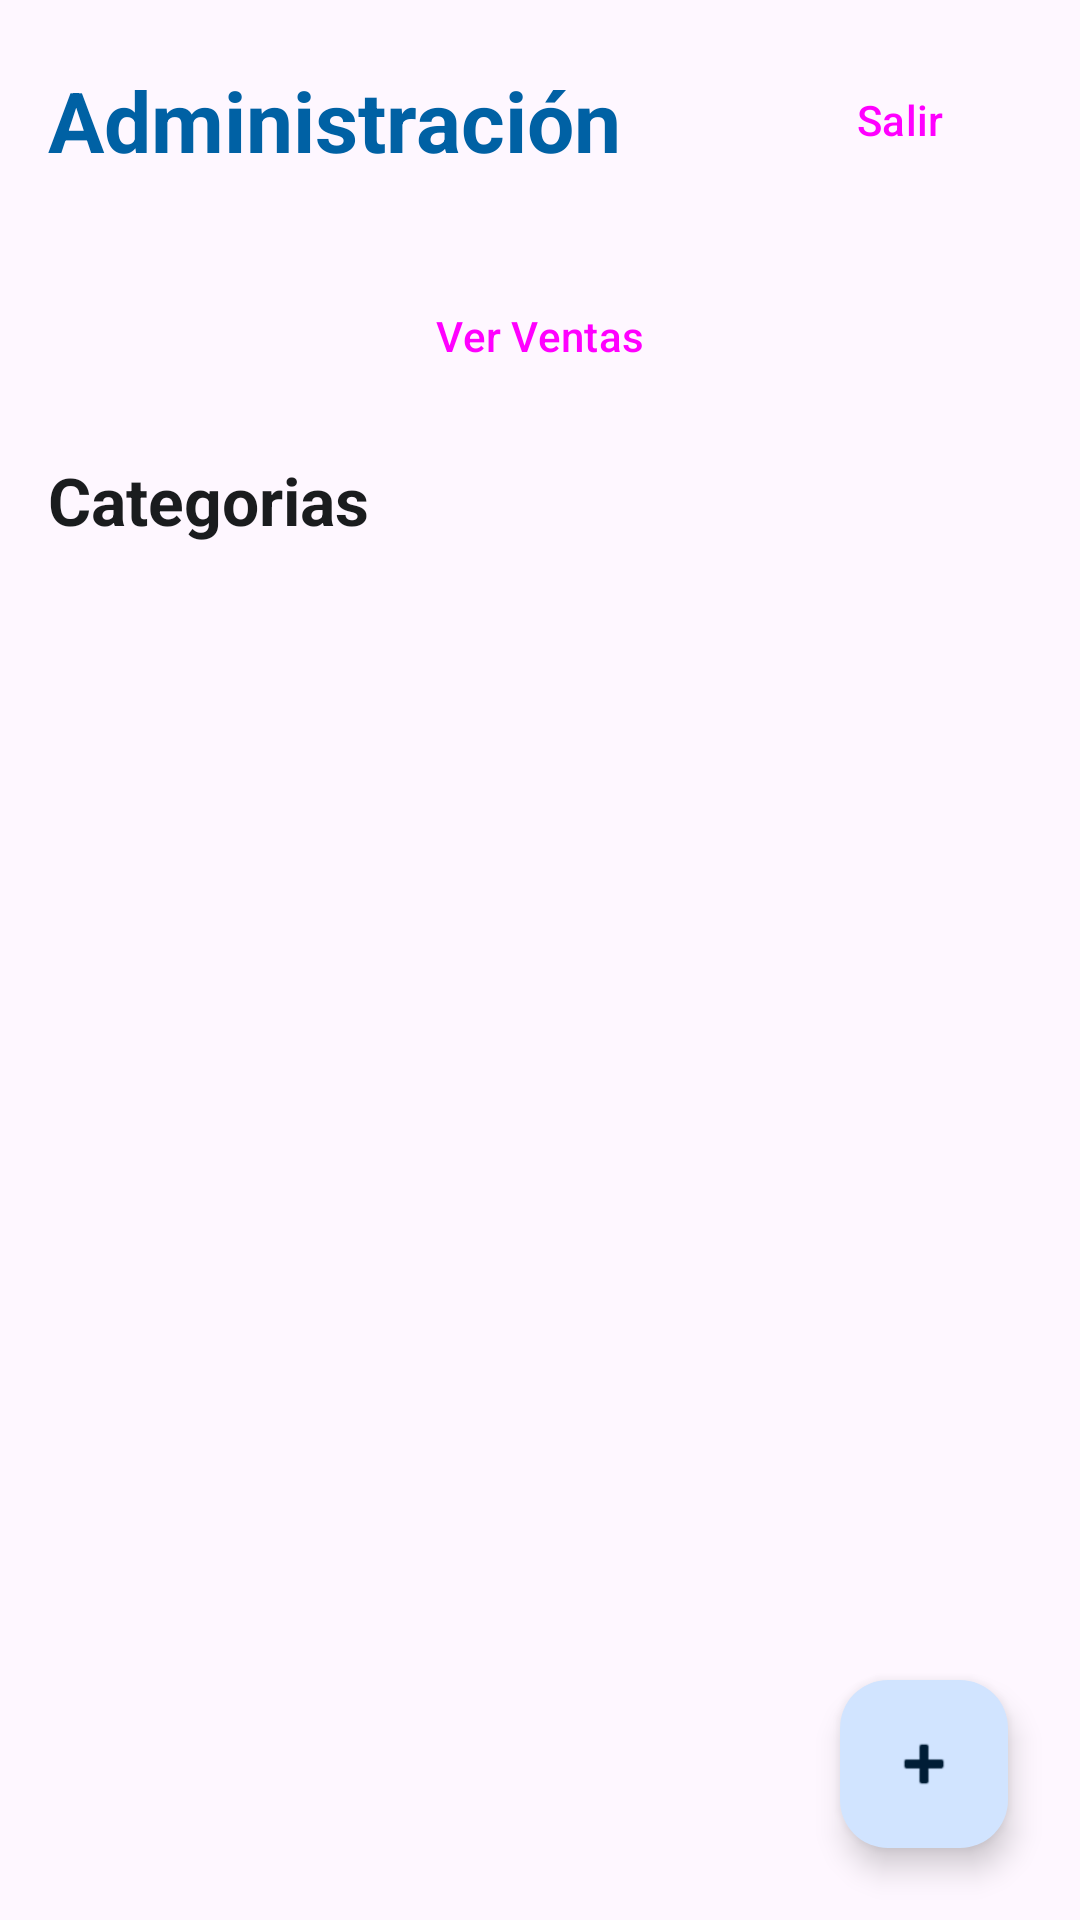

Where icons sit on this 1080*1920 app screen, as (x1, y1, x2, y2):
Agregar Categoria: (840, 1680, 1008, 1848)
